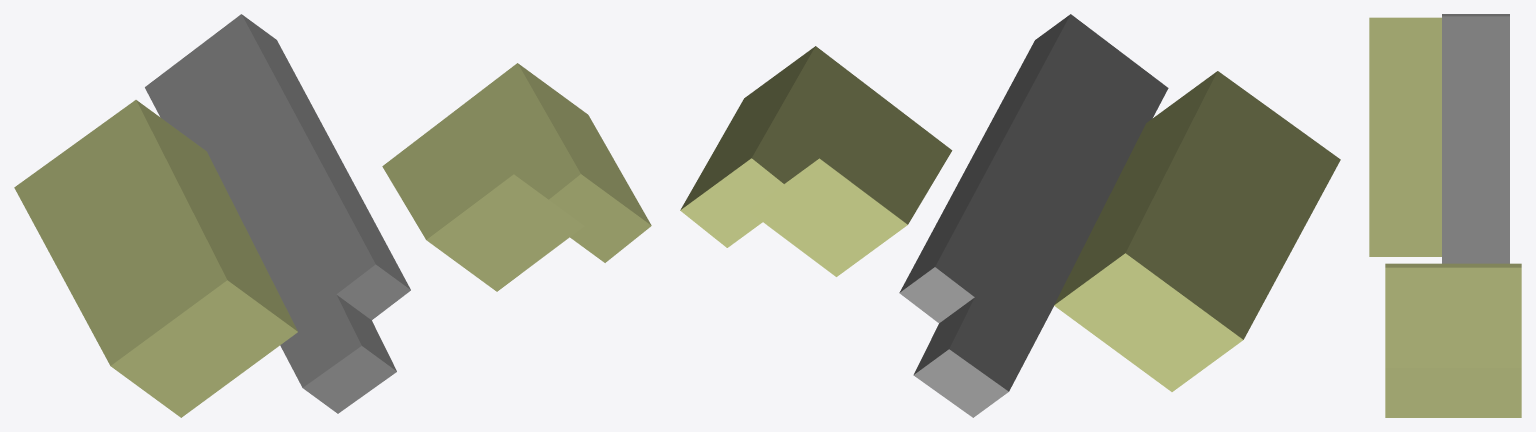
3 renders of one model, left to right at view 1: azimuth 30°, elevation 25°; view 2: azimuth 150°, elevation 25°; view 3: azimuth 270°, elevation 25°, orthographic. The views are drawn at different scales.
Parts seen in each view (by area): view 1: 0_1_0_2_0_0_1_3_0_3; view 2: 0_1_0_2_0_0_1_3_0_3; view 3: 0_1_0_2_0_0_1_3_0_3.
Part boxes in pixels (x1,y1,x2,y2): 0_1_0_2_0_0_1_3_0_3: [14, 14, 651, 417]; 0_1_0_2_0_0_1_3_0_3: [680, 14, 1340, 417]; 0_1_0_2_0_0_1_3_0_3: [1369, 14, 1521, 417].
Bounding box in the file's own units: 28.13 × 18.18 × 6.7.
